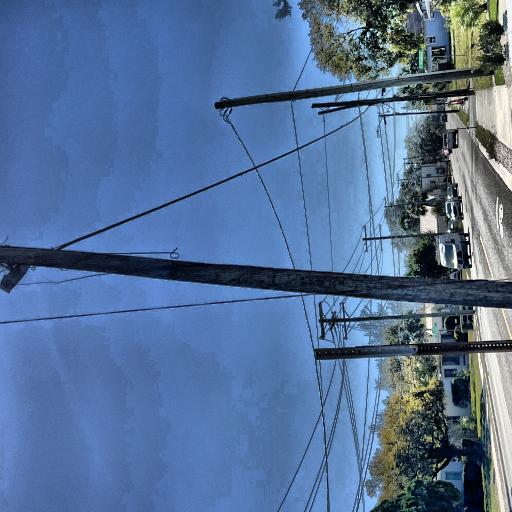pole: (68, 8, 146, 512)
